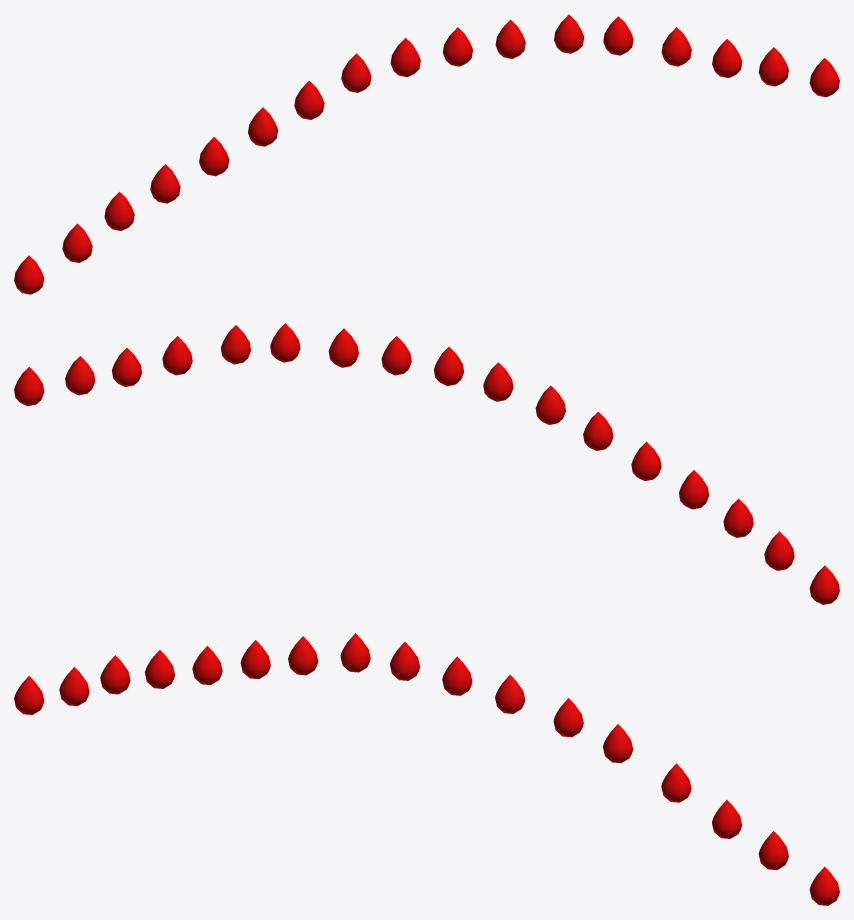
Rendered from Llamas.fbx.
The picture shows the model from 3 angles, top to bottom: view 1: azimuth 30°, elevation 25°; view 2: azimuth 150°, elevation 25°; view 3: azimuth 330°, elevation 25°; orthographic projection.
Parts seen in each view (by area): view 1: Icosphere.009, Icosphere.001, Icosphere.002, Icosphere.007, Icosphere.010, Icosphere.014, Icosphere.015, Icosphere.005, Icosphere.012, Icosphere.008, Icosphere.011, Icosphere.004 (+5 smaller); view 2: Icosphere.004, Icosphere.012, Icosphere.015, Icosphere.009, Icosphere.010, Icosphere.011, Icosphere.014, Icosphere.016, Icosphere.003, Icosphere.013, Icosphere.001, Icosphere.002 (+5 smaller); view 3: Icosphere.005, Icosphere.015, Icosphere, Icosphere.003, Icosphere.007, Icosphere.008, Icosphere.009, Icosphere.010, Icosphere.012, Icosphere.013, Icosphere.001, Icosphere.002 (+5 smaller).
Part boxes in pixels (left/top/right/bottom): Icosphere.009: left=341, top=53, right=371, bottom=92; Icosphere.001: left=442, top=27, right=472, bottom=66; Icosphere.002: left=495, top=19, right=525, bottom=58; Icosphere.007: left=758, top=47, right=788, bottom=86; Icosphere.010: left=294, top=80, right=324, bottom=119; Icosphere.014: left=62, top=223, right=92, bottom=262; Icosphere.015: left=104, top=192, right=134, bottom=230; Icosphere.005: left=661, top=27, right=691, bottom=66; Icosphere.012: left=199, top=137, right=229, bottom=176; Icosphere.008: left=809, top=58, right=839, bottom=97; Icosphere.011: left=248, top=107, right=277, bottom=146; Icosphere.004: left=554, top=14, right=584, bottom=53; Icosphere.004: left=270, top=323, right=300, bottom=362; Icosphere.012: left=631, top=441, right=661, bottom=480; Icosphere.015: left=723, top=498, right=753, bottom=537; Icosphere.009: left=483, top=362, right=513, bottom=401; Icosphere.010: left=535, top=385, right=565, bottom=424; Icosphere.011: left=583, top=411, right=613, bottom=450; Icosphere.014: left=764, top=531, right=794, bottom=570; Icosphere.016: left=809, top=565, right=839, bottom=604; Icosphere.003: left=221, top=325, right=250, bottom=364; Icosphere.013: left=679, top=470, right=708, bottom=509; Icosphere.001: left=381, top=336, right=411, bottom=375; Icosphere.002: left=328, top=328, right=358, bottom=367; Icosphere.005: left=661, top=763, right=691, bottom=802; Icosphere.015: left=100, top=655, right=130, bottom=694; Icosphere: left=390, top=642, right=419, bottom=680; Icosphere.003: left=603, top=724, right=633, bottom=763; Icosphere.007: left=758, top=831, right=788, bottom=870; Icosphere.008: left=809, top=866, right=839, bottom=905; Icosphere.009: left=340, top=633, right=370, bottom=672; Icosphere.010: left=288, top=636, right=318, bottom=675; Icosphere.012: left=192, top=646, right=222, bottom=684; Icosphere.013: left=144, top=650, right=174, bottom=688; Icosphere.001: left=442, top=656, right=472, bottom=695; Icosphere.002: left=495, top=675, right=525, bottom=713.
Bounding box in the file's own units: 2970 × 569 × 121.
